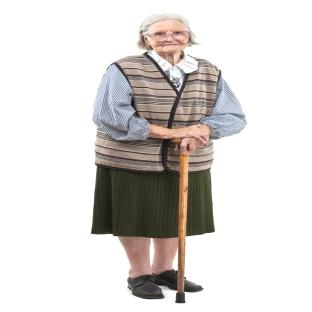Human: (92, 12, 247, 298), (186, 279, 203, 291)
